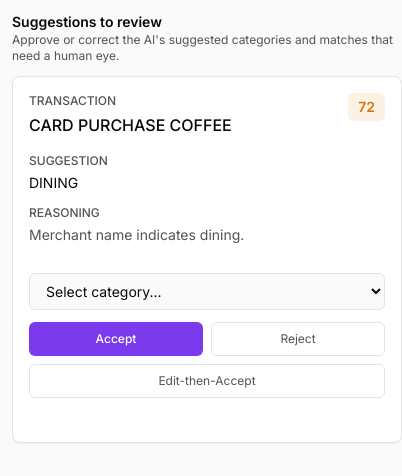
EPIC-018 / UI Gap Audit / Phase 5 Confidence + AI Review UI › AC-extraction.classification-hardening.6 — shows the effect that the server reports and the server refusal
Click the button "Reject": coordinates (298, 339) 211,322 -> 385,356
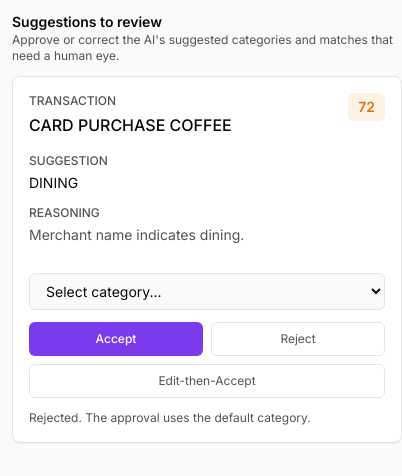
expect the message reads "Rejected. The approval uses the default category.": met, box 29,410 -> 311,425
# The server answers "recorded" when the draft is gone. The label must not claim an effect.
Click the button "Accept": coordinates (116, 339) 29,322 -> 203,356
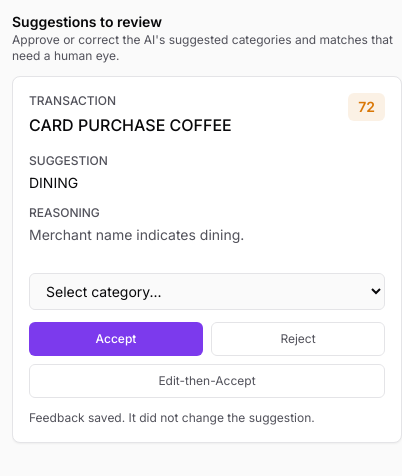
expect the message reads "Feedback saved. It did not change the suggestion.": met, box 29,410 -> 315,425
Select "Salary" in the dropdown named "Corrected value": coordinates (207, 292) 29,273 -> 385,310
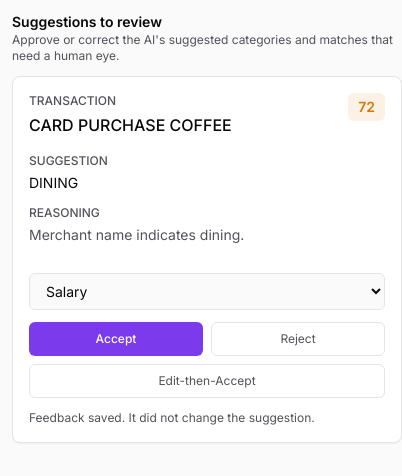
Click the button "Edit-then-Accept": coordinates (207, 381) 29,364 -> 385,398
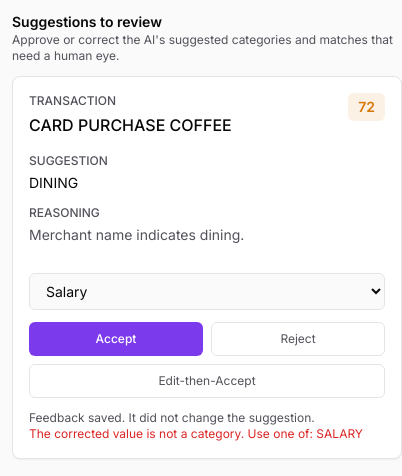
expect the message "The corrected value is not a category. Use one of: SALARY" is shown: met, box 29,426 -> 385,442
